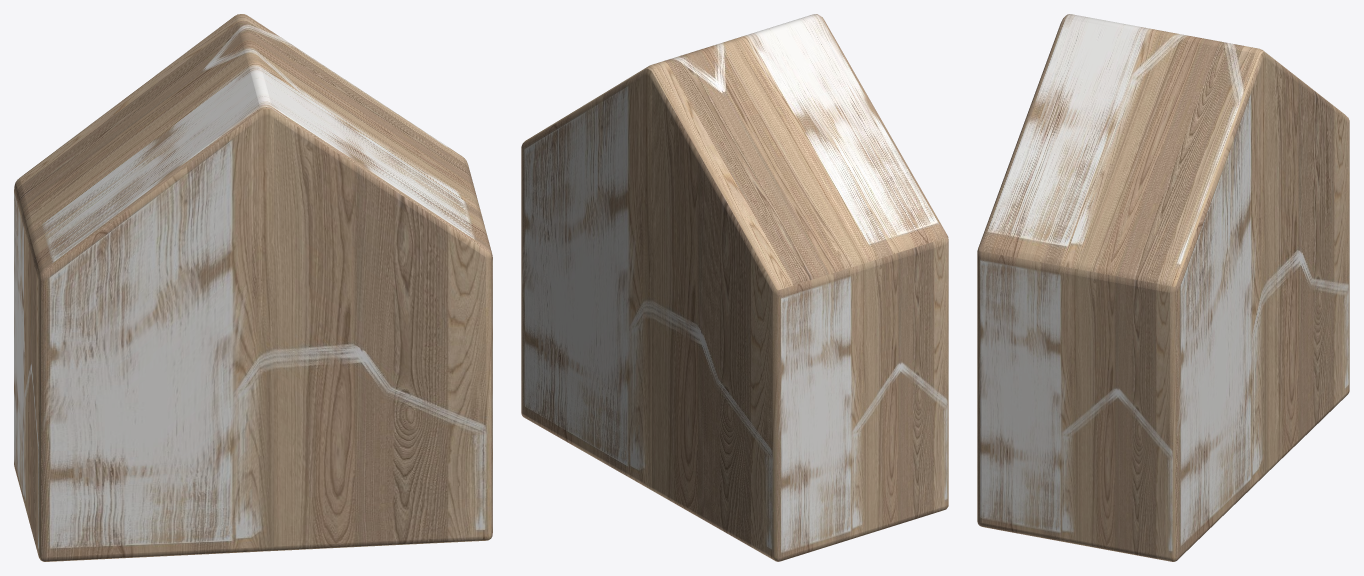
File: decor_house.glb
3 renders of one model, left to right at view 1: azimuth 30°, elevation 25°; view 2: azimuth 150°, elevation 25°; view 3: azimuth 270°, elevation 25°, orthographic. The views are drawn at different scales.
Parts seen in each view (by area): view 1: Geom3D; view 2: Geom3D; view 3: Geom3D.
Boxes of the visible parts, left/top/right/bottom form: Geom3D: left=14, top=14, right=492, bottom=561; Geom3D: left=521, top=14, right=948, bottom=561; Geom3D: left=977, top=14, right=1349, bottom=561.
Size of the model in its own units: 0.1328 by 0.1293 by 0.1016.
Materials: 1 (1 with a texture image).
